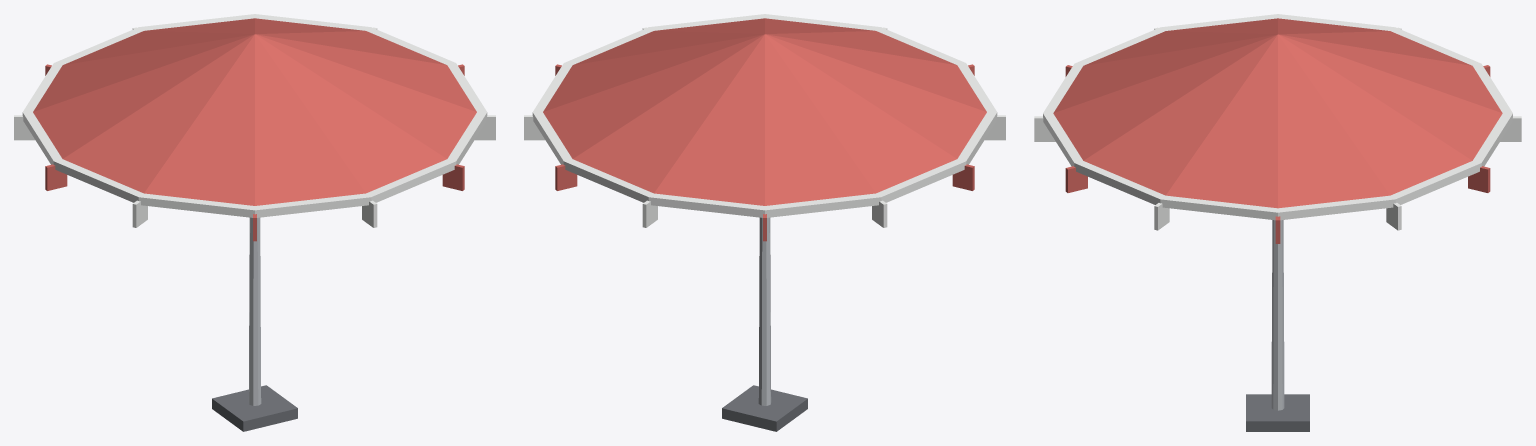
The model's file is racecourse-and-parade-ring-pitch-umbrella-d041a9b3__38653.glb.
The picture shows the model from 3 angles, left to right: view 1: azimuth 30°, elevation 25°; view 2: azimuth 150°, elevation 25°; view 3: azimuth 270°, elevation 25°; orthographic projection.
Parts seen in each view (by area): view 1: pitch-umbrella; view 2: pitch-umbrella; view 3: pitch-umbrella.
Boxes of the visible parts, <box> form: pitch-umbrella: <box>14,14,495,431</box>; pitch-umbrella: <box>524,14,1005,431</box>; pitch-umbrella: <box>1034,14,1521,431</box>.
Bounding box in the file's own units: 3.36 × 2.92 × 3.36.
